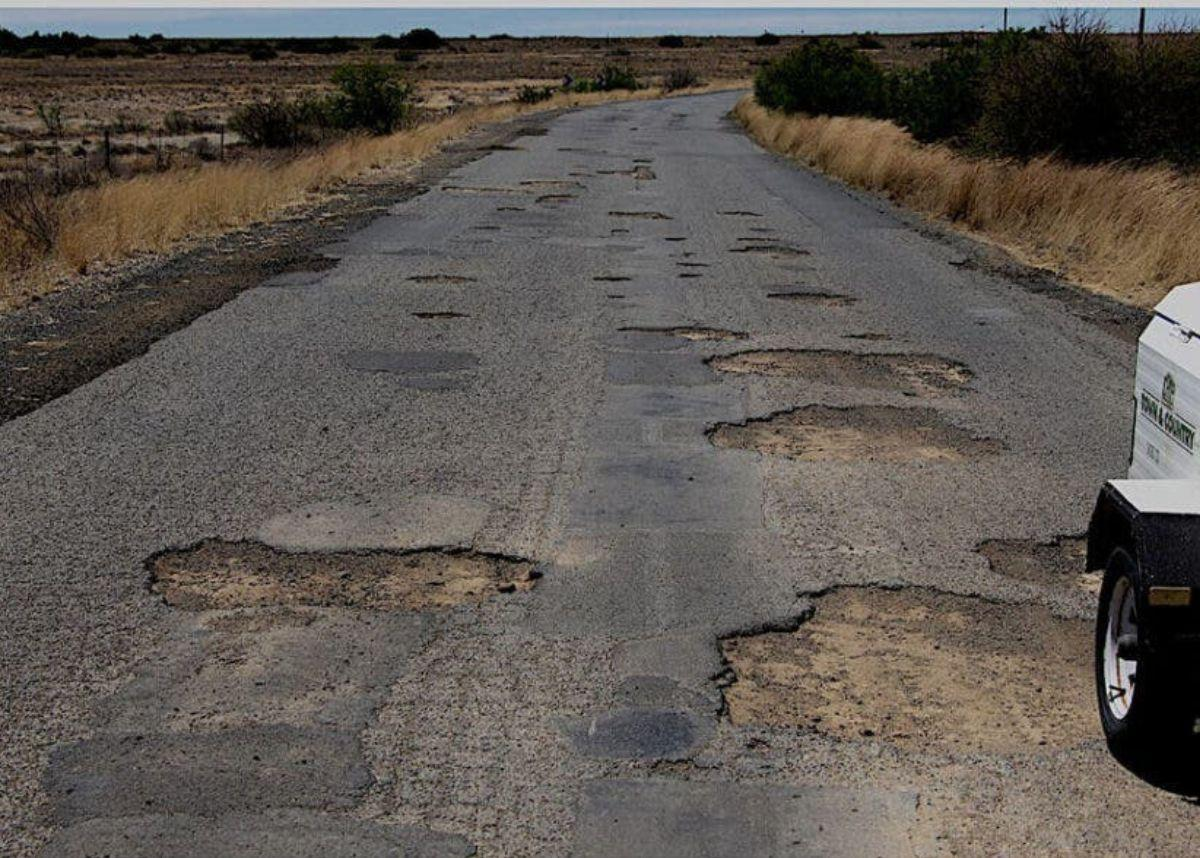Pothole: (420, 300, 780, 558)
